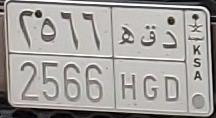2: (17, 10, 40, 102)
5: (40, 17, 61, 101)
6: (60, 11, 82, 102), (83, 13, 105, 103)
D: (162, 30, 180, 102)
G: (140, 24, 160, 101)
H: (118, 26, 137, 100)
